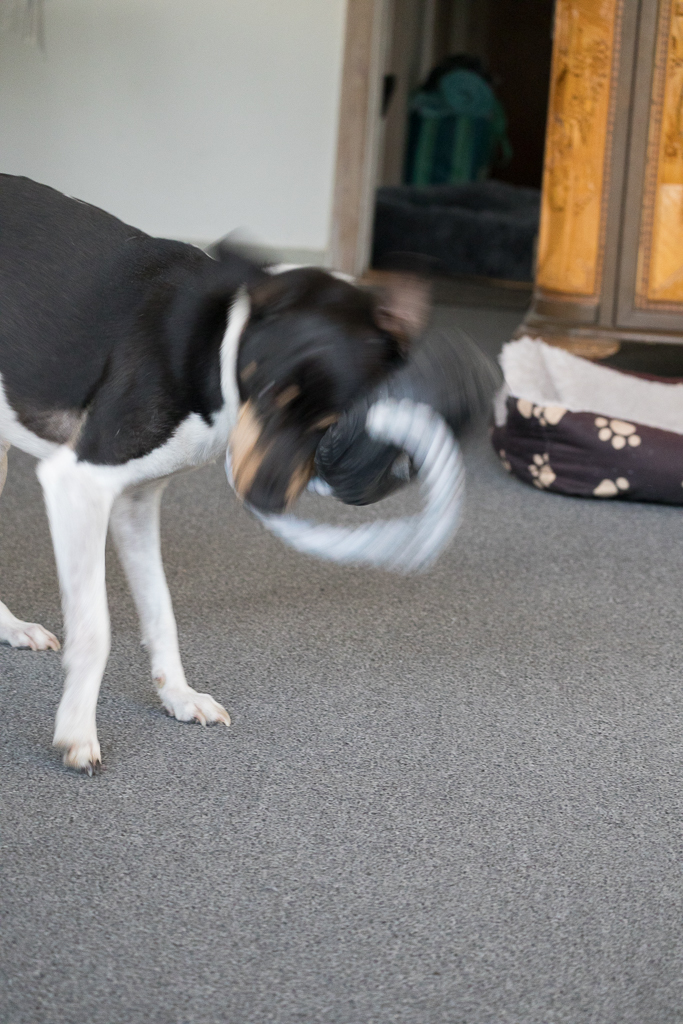Dog: (0, 159, 450, 796)
